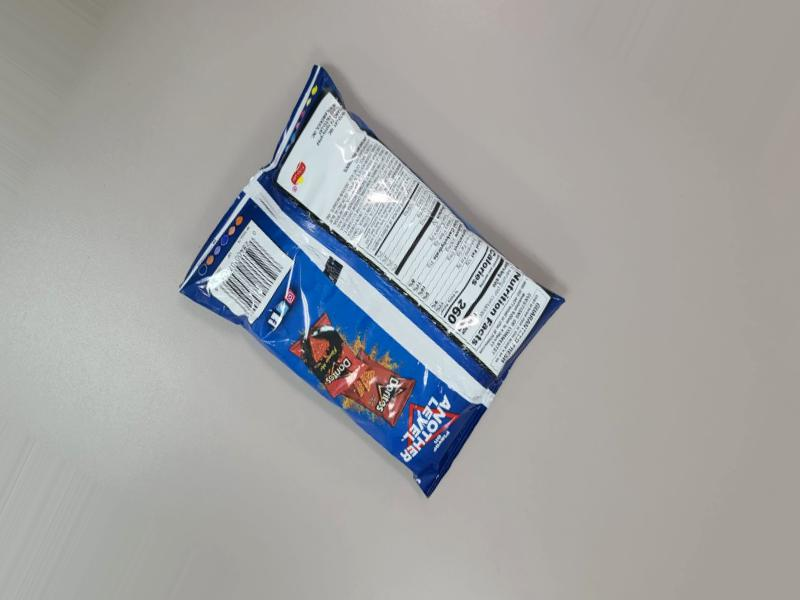doritos: (196, 110, 589, 536)
